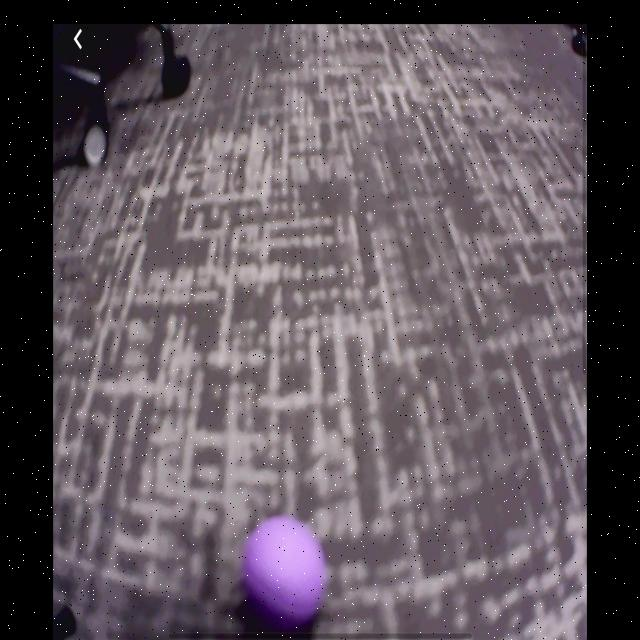ball: (242, 515, 329, 627)
